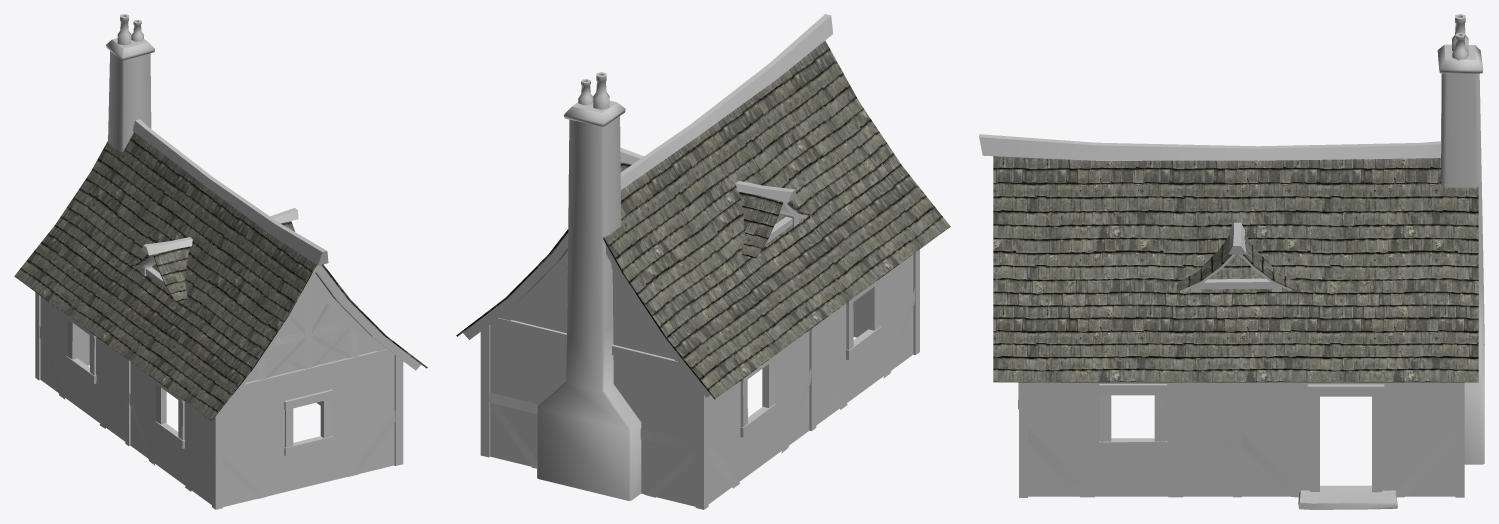
The model's file is mw_type_1_cottage_01_LOD1.FBX.
The picture shows the model from 3 angles, left to right: view 1: azimuth 30°, elevation 25°; view 2: azimuth 150°, elevation 25°; view 3: azimuth 270°, elevation 25°; orthographic projection. The views are drawn at different scales.
Visible parts, largest first — view 1: mw_type_1_cottage_02_roof, mw_type_1_cottage_01_stone, mw_type_1_cottage_01_wood; view 2: mw_type_1_cottage_02_roof, mw_type_1_cottage_01_stone, mw_type_1_cottage_01_wood; view 3: mw_type_1_cottage_02_roof, mw_type_1_cottage_01_stone, mw_type_1_cottage_01_wood.
Part boxes in pixels (x1,y1,x2,y2): mw_type_1_cottage_02_roof: (14,132,427,420); mw_type_1_cottage_01_stone: (40,14,394,506); mw_type_1_cottage_01_wood: (35,119,421,509); mw_type_1_cottage_02_roof: (456,40,950,399); mw_type_1_cottage_01_stone: (490,72,913,506); mw_type_1_cottage_01_wood: (463,14,919,509); mw_type_1_cottage_02_roof: (993,156,1478,382); mw_type_1_cottage_01_stone: (1028,14,1484,509); mw_type_1_cottage_01_wood: (979,134,1464,497).
Size of what is drawn, in the model's own units: 735 by 1077 by 1171.
